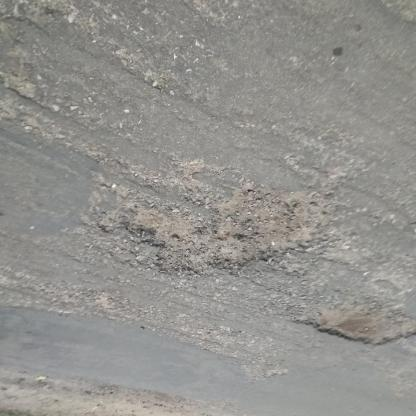pothole: (97, 187, 325, 283), (293, 302, 416, 349)
